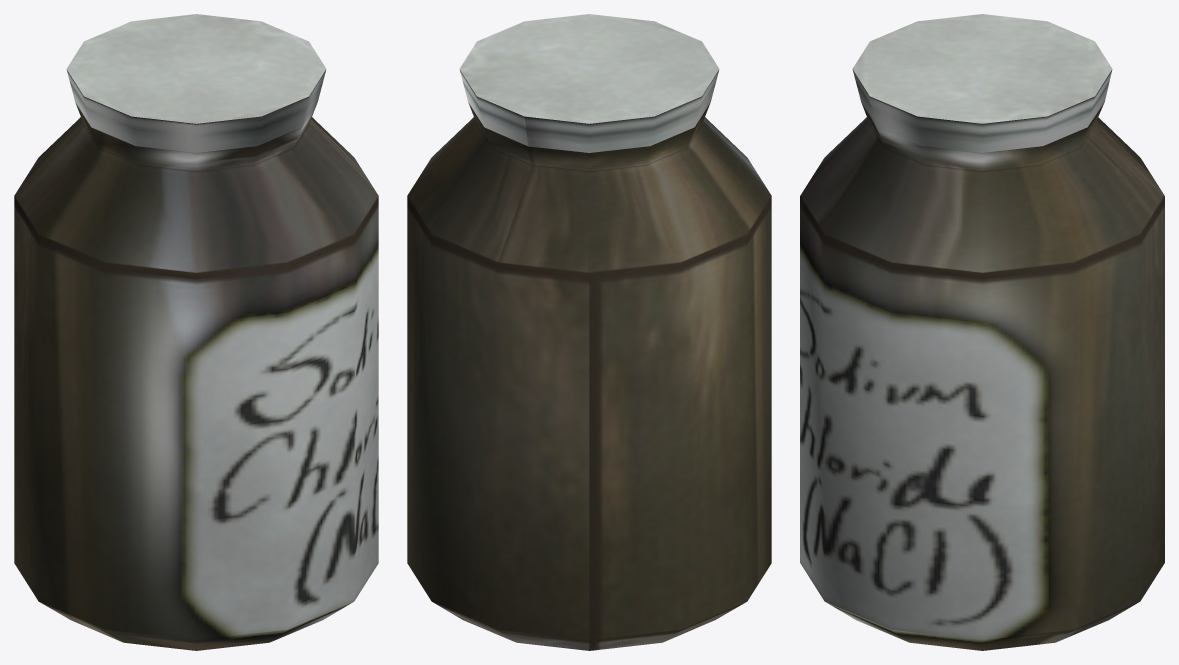
File: item_chemjar_salt.dae
3 renders of one model, left to right at view 1: azimuth 30°, elevation 25°; view 2: azimuth 150°, elevation 25°; view 3: azimuth 270°, elevation 25°, orthographic.
Visible parts, largest first — view 1: jar3; view 2: jar3; view 3: jar3.
Boxes of the visible parts, x1,y1,x2,y2 form: jar3: (14,14,378,650); jar3: (407,14,771,650); jar3: (800,14,1164,650).
Size of what is drawn, in the model's own units: 0.08 by 0.1259 by 0.08.
